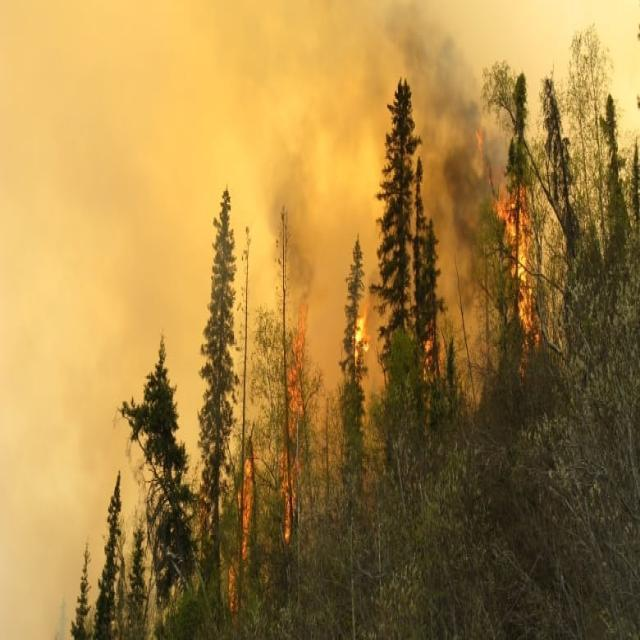Fire: (489, 146, 546, 364), (278, 286, 314, 548), (232, 428, 260, 564), (348, 296, 384, 374), (216, 534, 242, 620)
Smoke: (392, 0, 524, 376), (256, 0, 374, 359)
